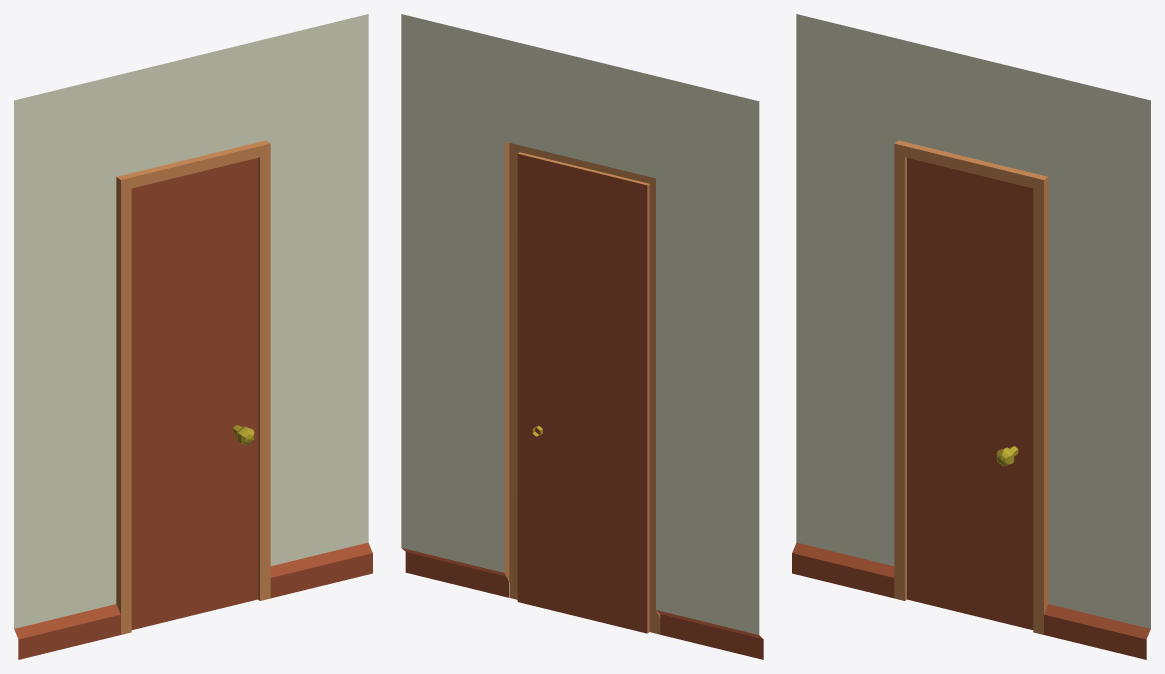
Rendered from Wall2.fbx.
3 renders of one model, left to right at view 1: azimuth 30°, elevation 25°; view 2: azimuth 150°, elevation 25°; view 3: azimuth 330°, elevation 25°, orthographic.
Parts seen in each view (by area): view 1: 平面; view 2: 平面; view 3: 平面.
Boxes of the visible parts, x1,y1,x2,y2 form: 平面: (14,14,372,659); 平面: (401,14,763,659); 平面: (792,14,1150,659).
Size of the model in its own units: 2 by 3 by 0.1569.
